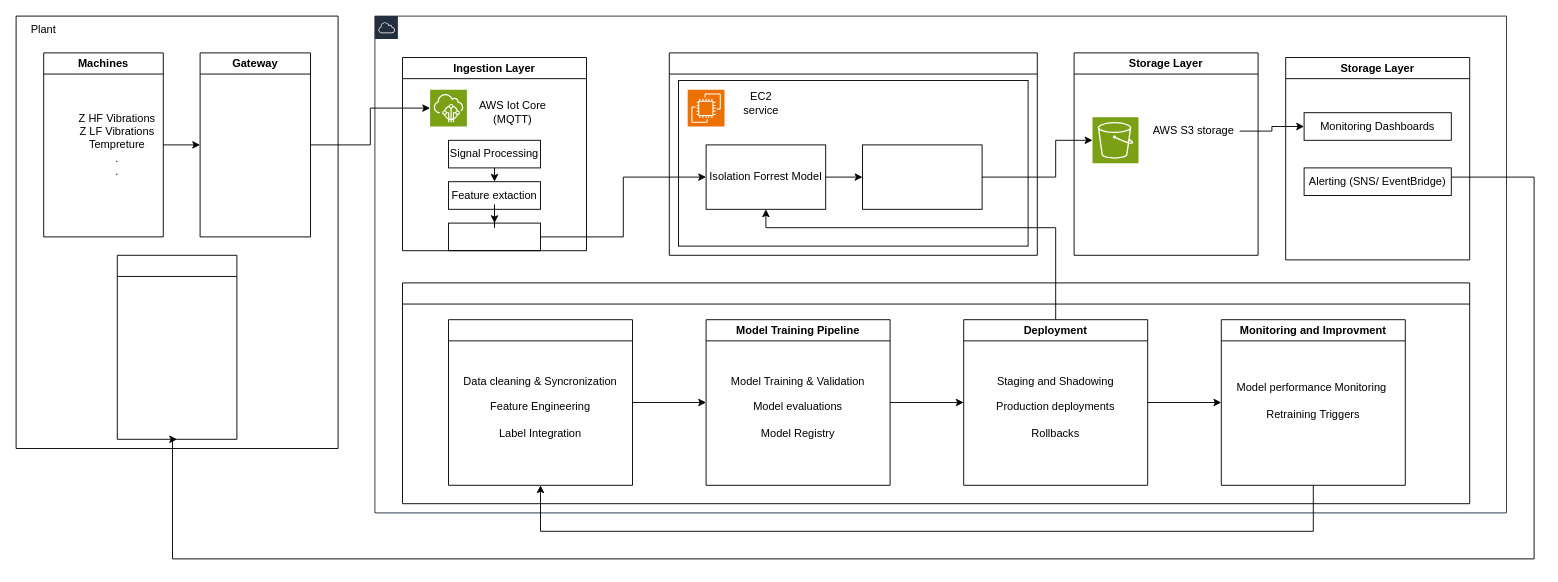
Image size: 1558x582. Some labels were removed from this diagram. The box of each missing label's shape, as (x1, y1, x2, y2) in pixels:
Data Preperation: (448, 319, 632, 485)
Feature validation: (448, 222, 540, 251)
Inference Layer: (668, 52, 1037, 255)
Maintenance Team: (116, 254, 237, 439)
ML LIfecycle: (402, 282, 1470, 504)
Post Processing and Prediction: (862, 144, 982, 209)
